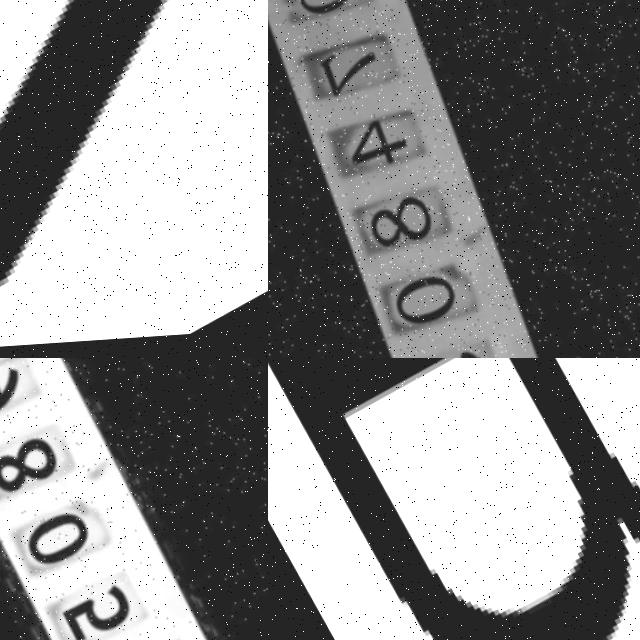0: (0, 484, 109, 597), (358, 250, 475, 355), (268, 0, 374, 41)
3: (386, 329, 503, 358)
4: (311, 94, 431, 200)
5: (22, 559, 146, 640)
7: (0, 0, 268, 322), (290, 23, 398, 119)
8: (335, 175, 450, 278), (0, 411, 77, 525)
9: (0, 358, 47, 450)
B: (268, 358, 640, 640)
